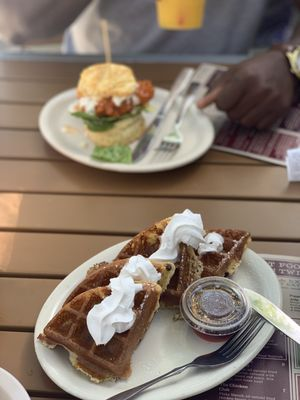pizza: (154, 0, 207, 32)
sandwich: (131, 66, 195, 164)
soup: (67, 62, 156, 147)
